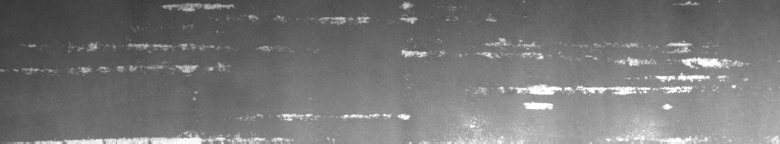kb: (4, 4, 750, 136)
